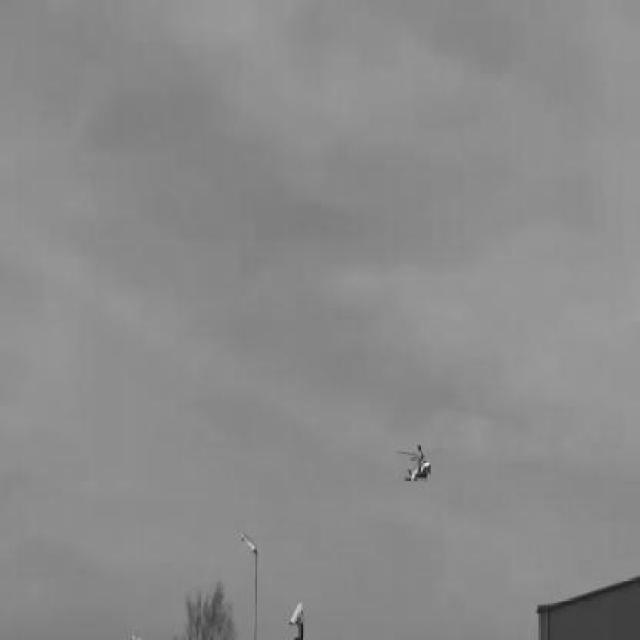helikopter: (400, 438, 438, 491)
